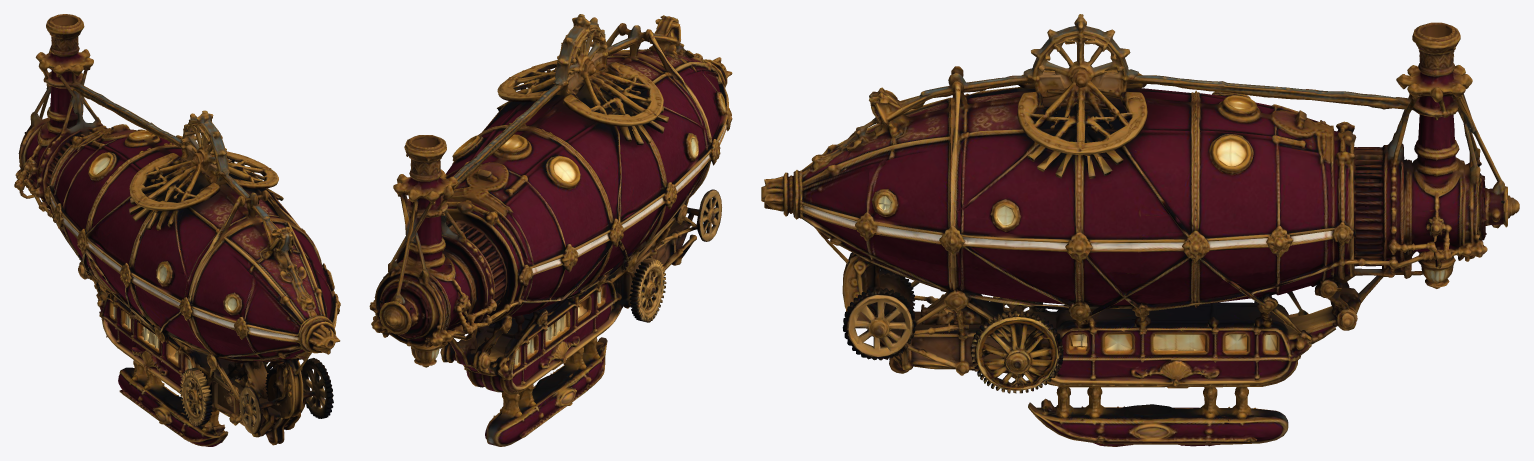
The picture shows the model from 3 angles, left to right: view 1: azimuth 30°, elevation 25°; view 2: azimuth 150°, elevation 25°; view 3: azimuth 270°, elevation 25°; orthographic projection. The views are drawn at different scales.
Visible parts, largest first — view 1: geometry_0; view 2: geometry_0; view 3: geometry_0.
Boxes of the visible parts, x1,y1,x2,y2 form: geometry_0: [14, 14, 340, 446]; geometry_0: [369, 14, 732, 446]; geometry_0: [761, 14, 1519, 446].
Bounding box in the file's own units: 0.3207 × 0.6248 × 0.9999.
1 material, 1 textured.
